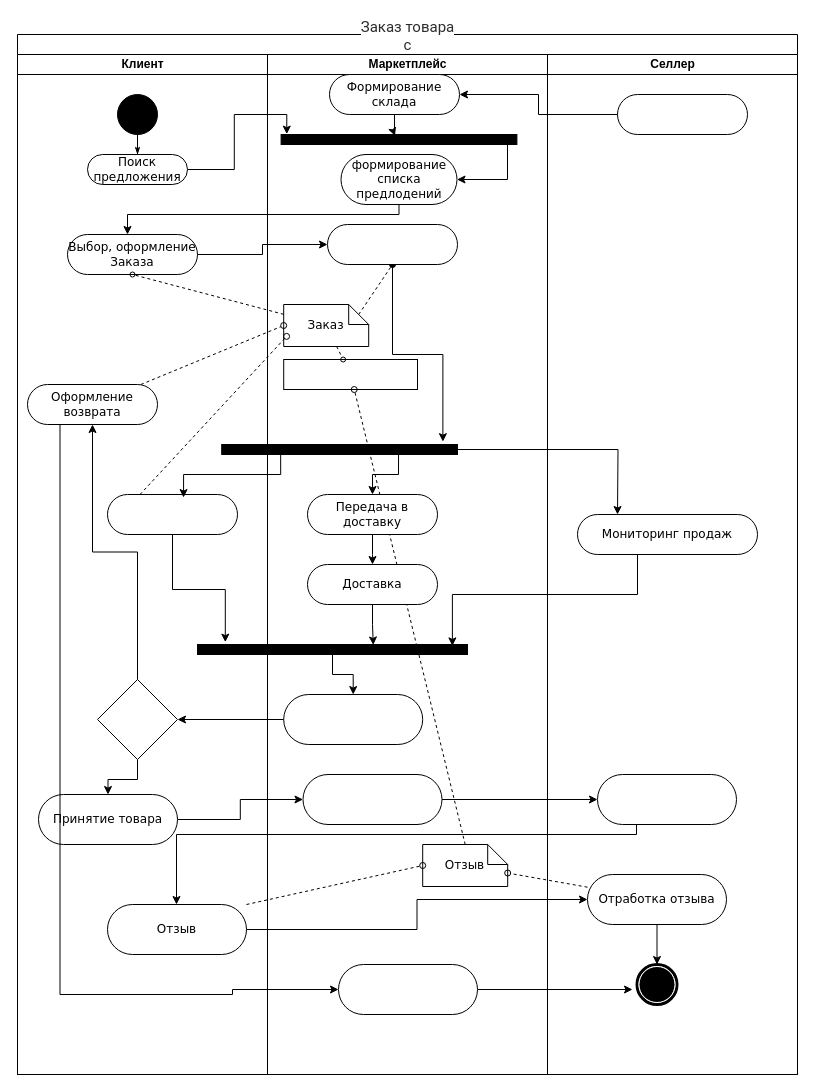
Image size: 815x1092. Some labels were removed from this diagram. Here are the shapes that lost their labels. From the top down, the centre of each, then its label:
the point at 682,114: Передача товара
the point at 392,244: Принятие заказа
the point at 350,374: БД Маркетплейса
the point at 172,514: Оплата
the point at 353,719: Выдача Заказа
the point at 372,799: Оплата Селлеру
the point at 666,799: Принятие оплаты
the point at 408,989: Возврат средств
